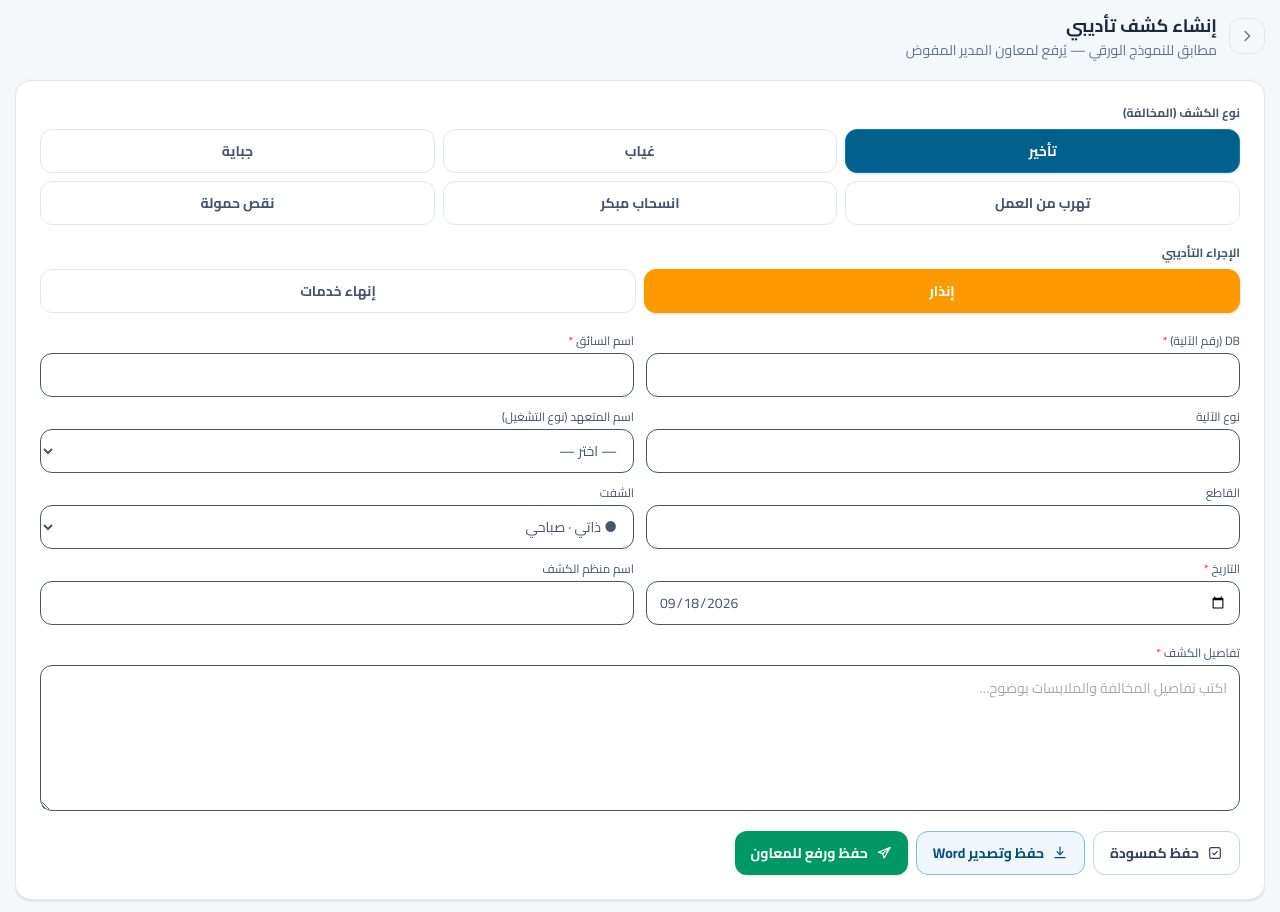
NewDisclosure › يرفض الحفظ دون البيانات المطلوبة
// امسح الحقول الإلزامية واضغط حفظ
Click the button with test id "save-draft" at (1167, 853), box x1=1093 y1=831 x2=1240 y2=875
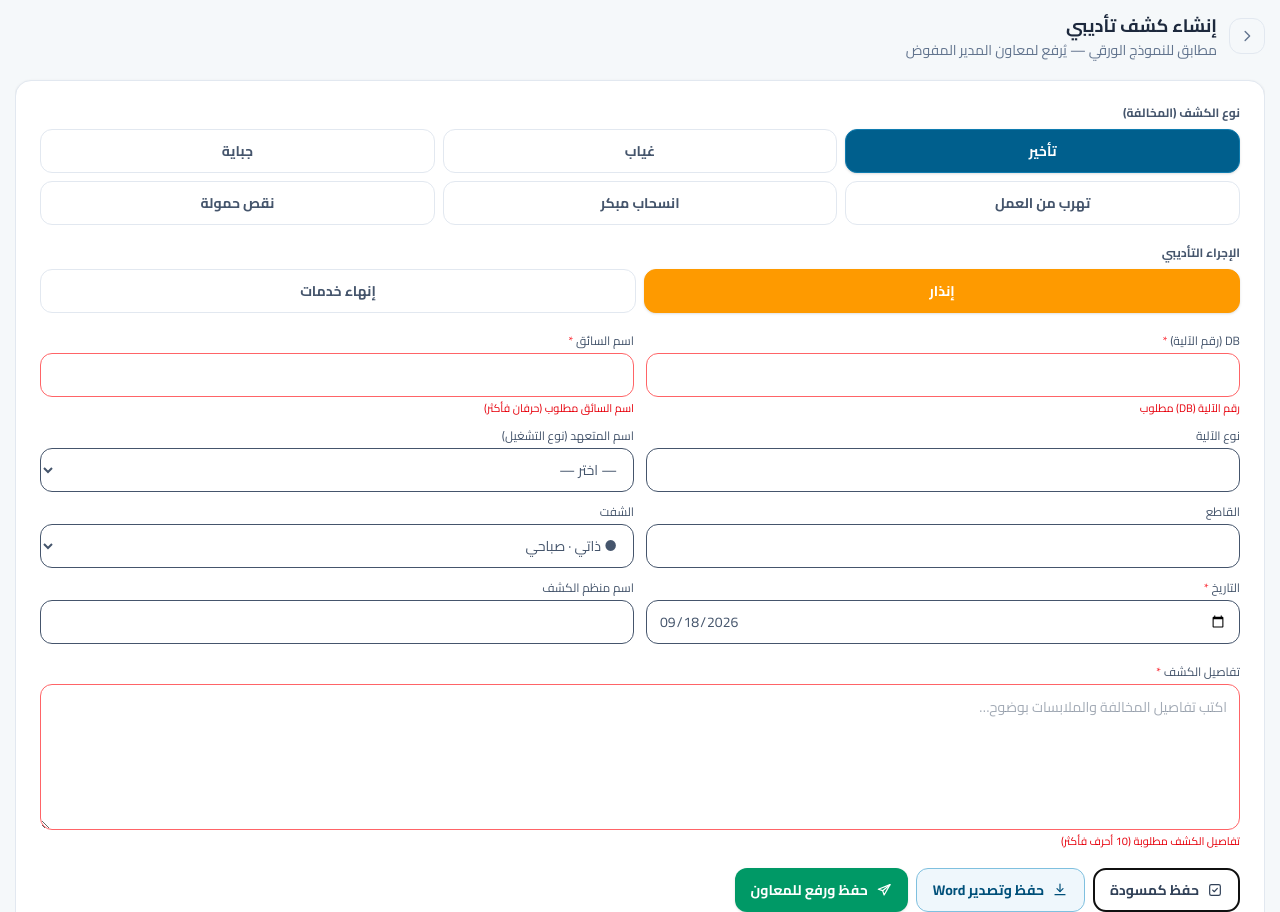
Now the text "رقم الآلية (DB) مطلوب" is shown, box x1=1140 y1=398 x2=1240 y2=418
Now the text "اسم السائق مطلوب (حرفان فأكثر)" is shown, box x1=484 y1=398 x2=634 y2=418
Now the text "تفاصيل الكشف مطلوبة (10 أحرف فأكثر)" is shown, box x1=1061 y1=831 x2=1240 y2=851
